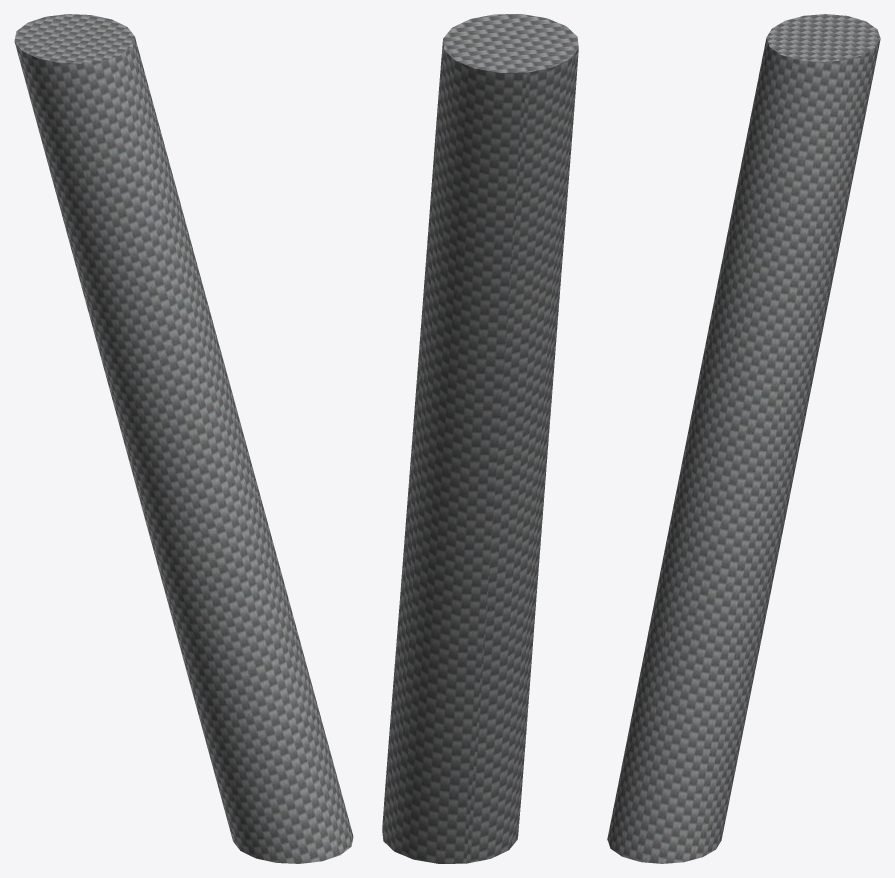
File: ANOTHER COLUMN.fbx
3 renders of one model, left to right at view 1: azimuth 30°, elevation 25°; view 2: azimuth 150°, elevation 25°; view 3: azimuth 270°, elevation 25°, orthographic. The views are drawn at different scales.
Parts seen in each view (by area): view 1: Carbon Fiber Columns; view 2: Carbon Fiber Columns; view 3: Carbon Fiber Columns.
Part boxes in pixels (x1=…): Carbon Fiber Columns: x1=14, y1=14, x2=353, y2=863; Carbon Fiber Columns: x1=382, y1=14, x2=578, y2=863; Carbon Fiber Columns: x1=607, y1=14, x2=880, y2=863.
Bounding box in the file's own units: 4.7 × 14.51 × 4.87.
1 material, 1 textured.
